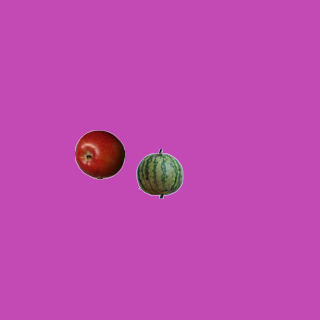Apple Braeburn: (74, 129, 124, 179)
Watermelon: (134, 148, 184, 198)
